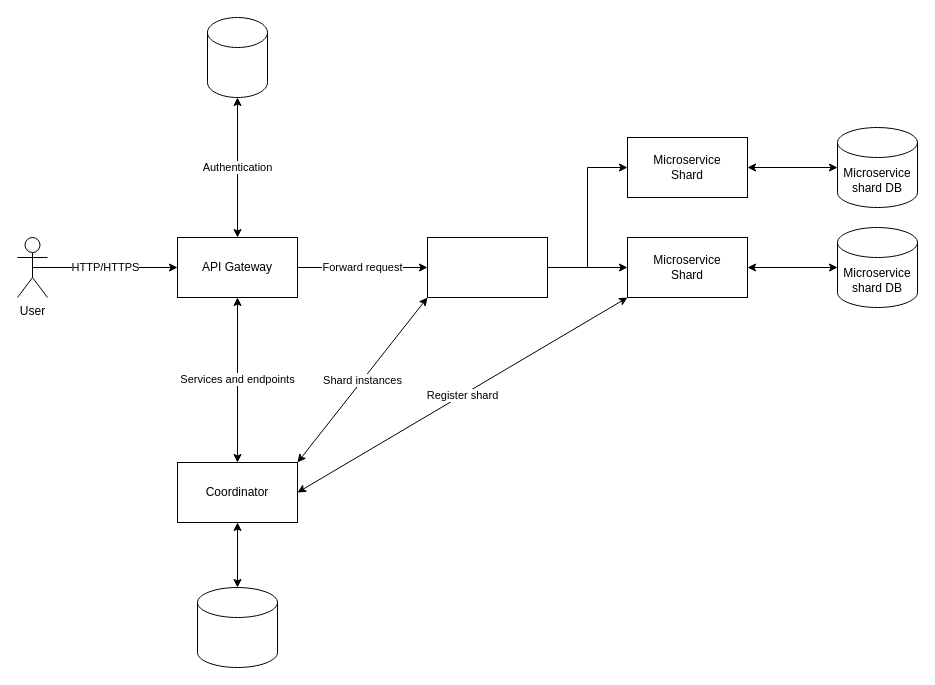
Some shapes in this 935 by 685 pixel diagram are drawn without their labels. The shapes that lost their labels are listed below. From the top down, each one's centre as x and y in pixels, then its label:
At (237,57): "Auth DB".
At (487,267): "Load balancer".
At (237,627): "Coordinator DB".
